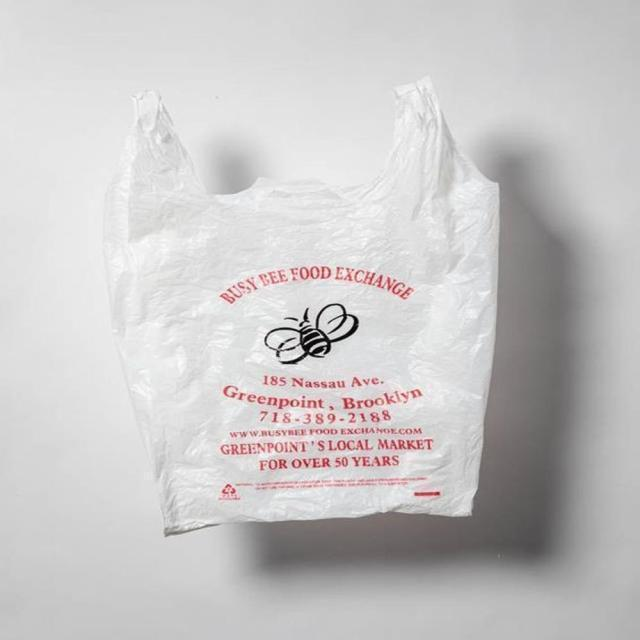Plastic_Bag: (107, 78, 503, 542)
